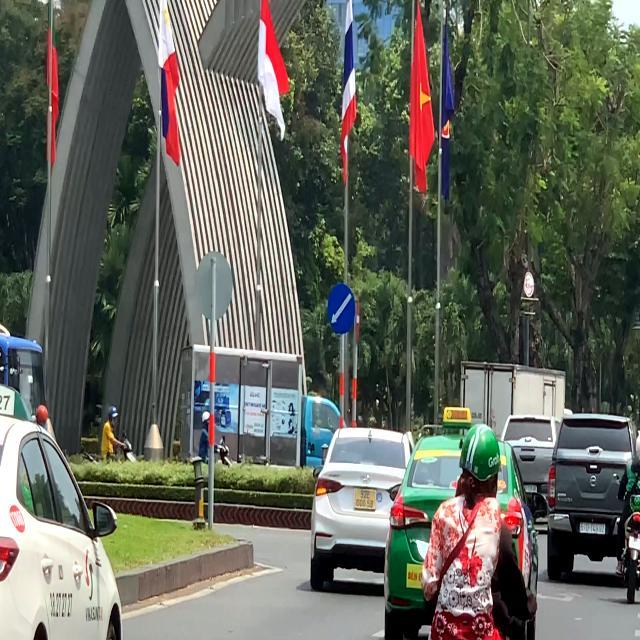R-302b: (326, 284, 354, 332)
